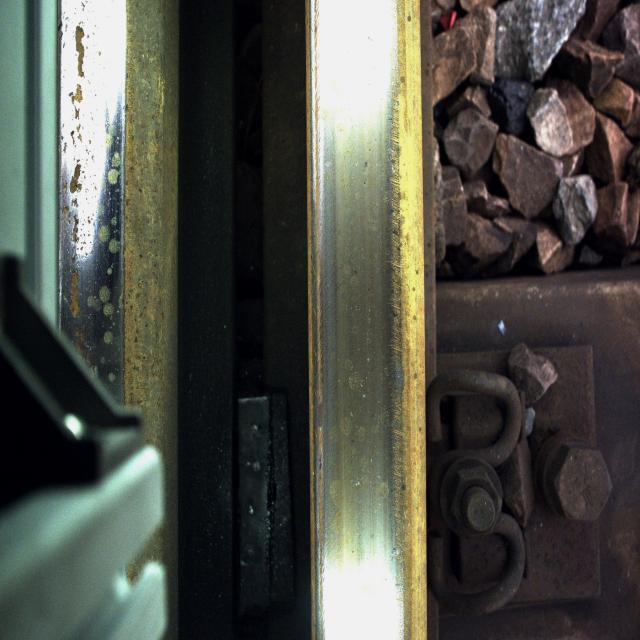normal: (322, 59, 403, 601)
scar: (52, 11, 128, 350)
